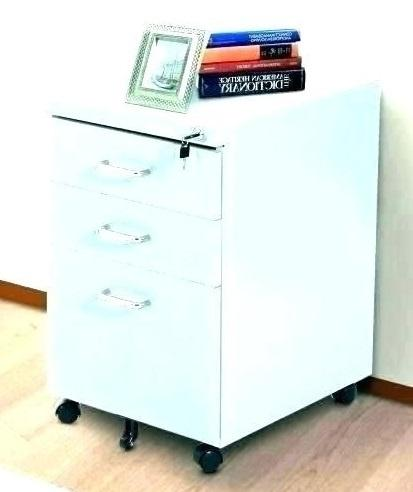cabinet_door: (56, 269, 215, 397), (50, 132, 219, 198), (52, 201, 218, 268)
handle: (93, 285, 155, 316), (93, 220, 154, 250), (94, 155, 155, 182)
